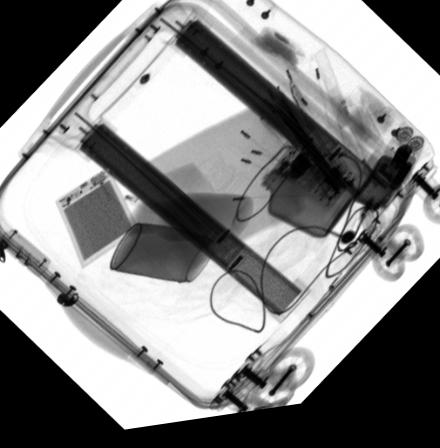Powerbank: (54, 168, 139, 270)
